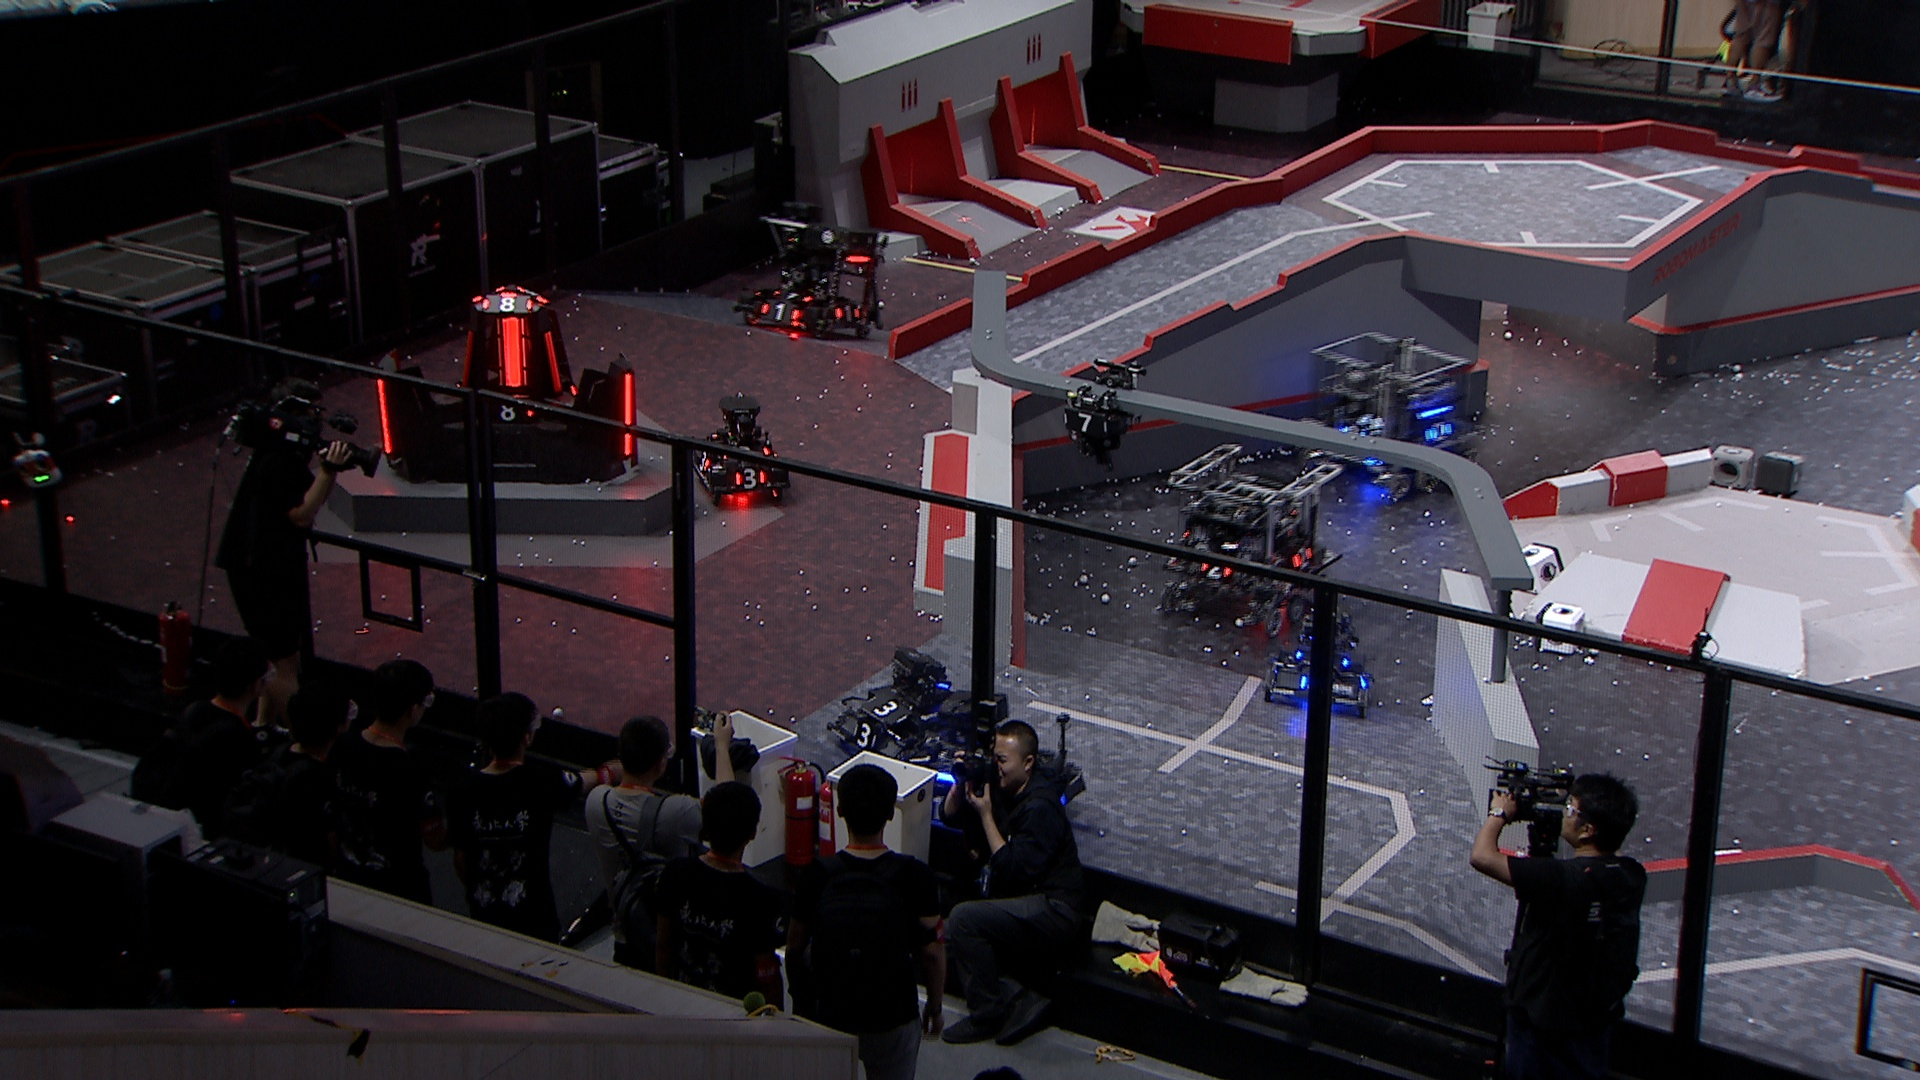armor: (495, 314, 527, 390), (372, 375, 396, 455), (862, 694, 911, 723), (541, 328, 562, 392), (622, 371, 637, 455), (757, 301, 804, 324), (1062, 411, 1110, 434), (458, 328, 475, 389), (481, 295, 535, 314), (491, 401, 534, 423), (767, 285, 814, 305), (731, 467, 769, 491), (909, 742, 935, 773), (852, 723, 878, 752), (1424, 419, 1452, 443), (1288, 546, 1313, 571), (1199, 560, 1234, 578), (694, 448, 713, 476), (836, 302, 862, 322)
base: (368, 282, 642, 485)
car: (1156, 442, 1346, 633), (887, 680, 1083, 847), (1294, 330, 1481, 496), (737, 200, 889, 344), (822, 645, 965, 769), (1262, 608, 1378, 716), (686, 392, 790, 504)
watcher: (1059, 357, 1147, 467)
